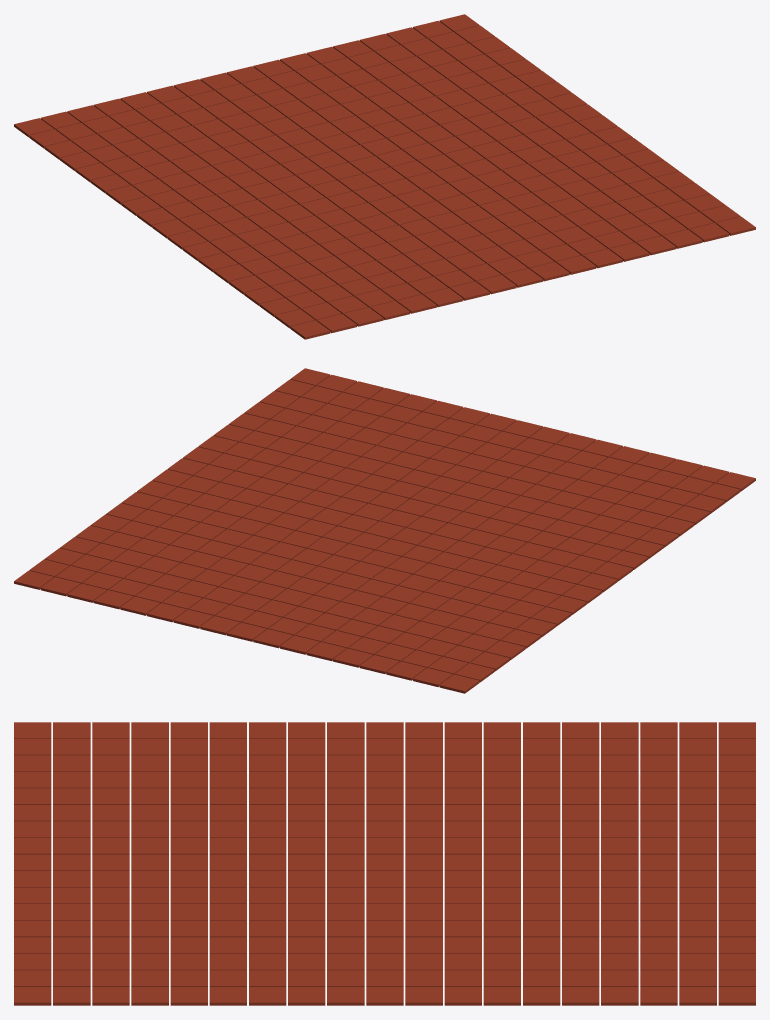
Rendered from tiles.dae.
3 views of the same model, one above another, from view 1: azimuth 30°, elevation 25°; view 2: azimuth 150°, elevation 25°; view 3: azimuth 270°, elevation 25° (orthographic). The views are drawn at different scales.
Visible parts, largest first — view 1: corner_desk.001; view 2: corner_desk.001; view 3: corner_desk.001.
Boxes of the visible parts, x1,y1,x2,y2 form: corner_desk.001: [14, 14, 755, 339]; corner_desk.001: [14, 368, 755, 693]; corner_desk.001: [14, 722, 755, 1005].
Size of the model in its own units: 3.81 by 4.27 by 0.02.
